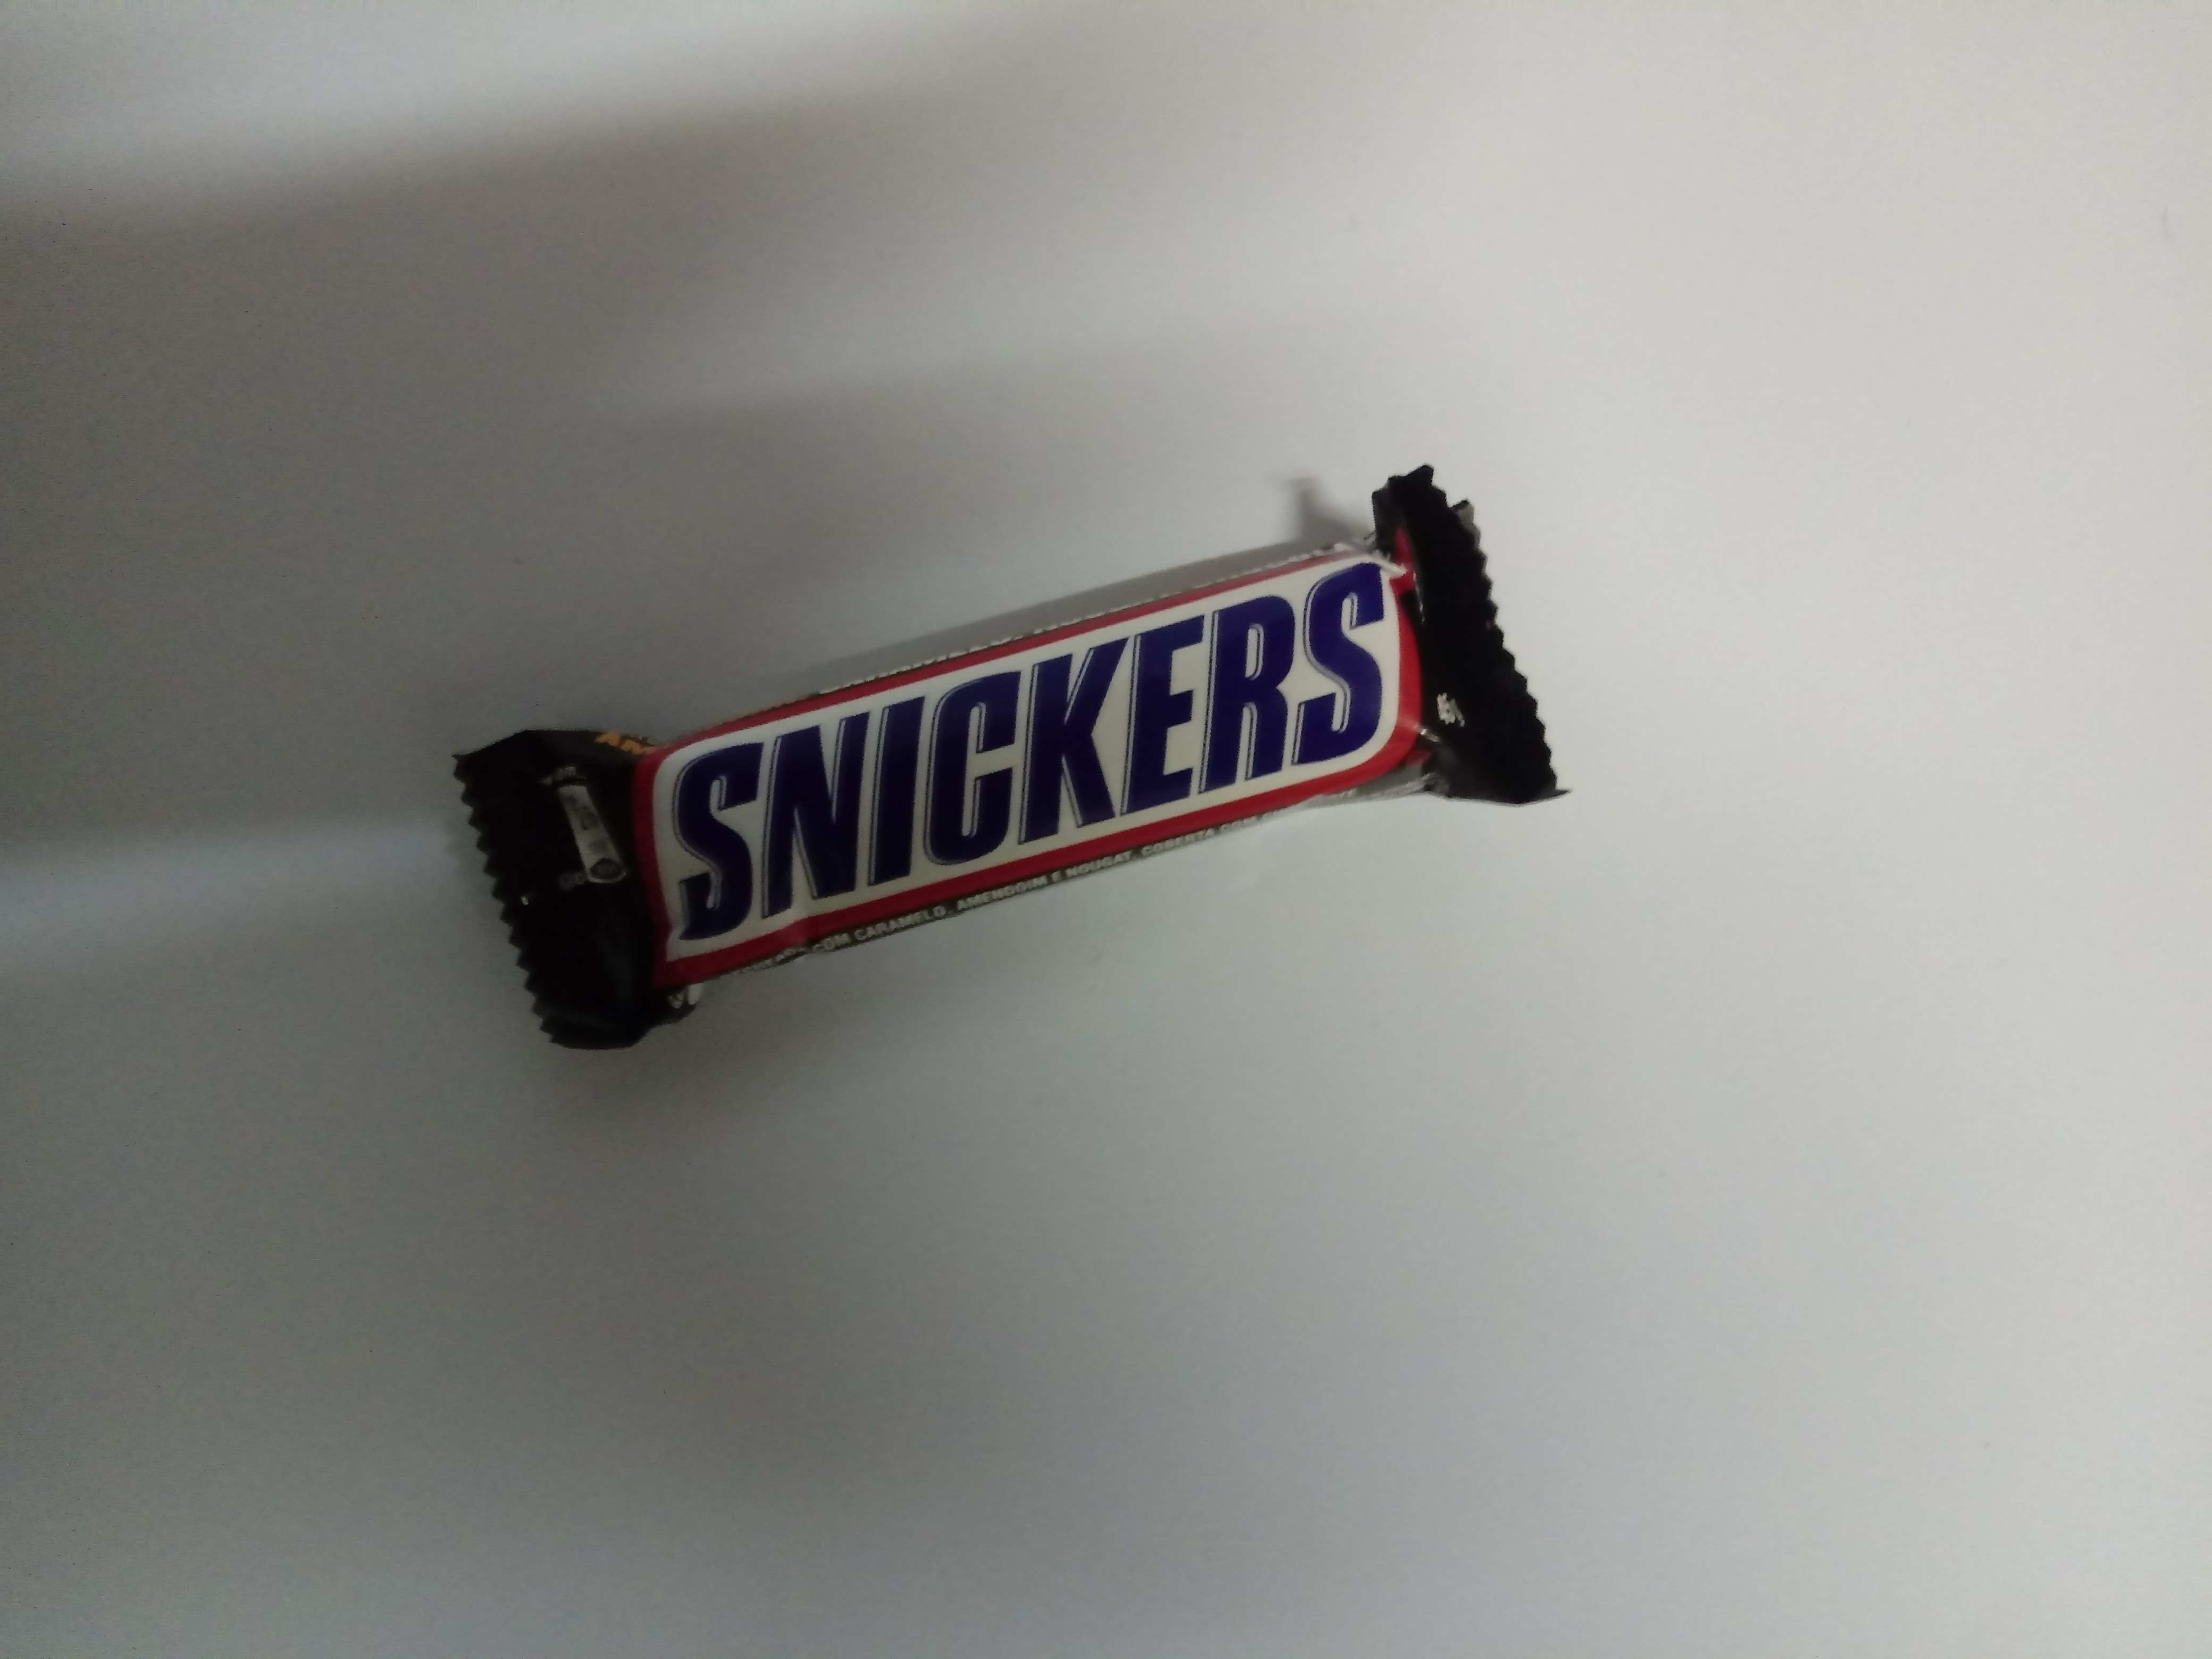snickers: (432, 453, 1604, 1070)
